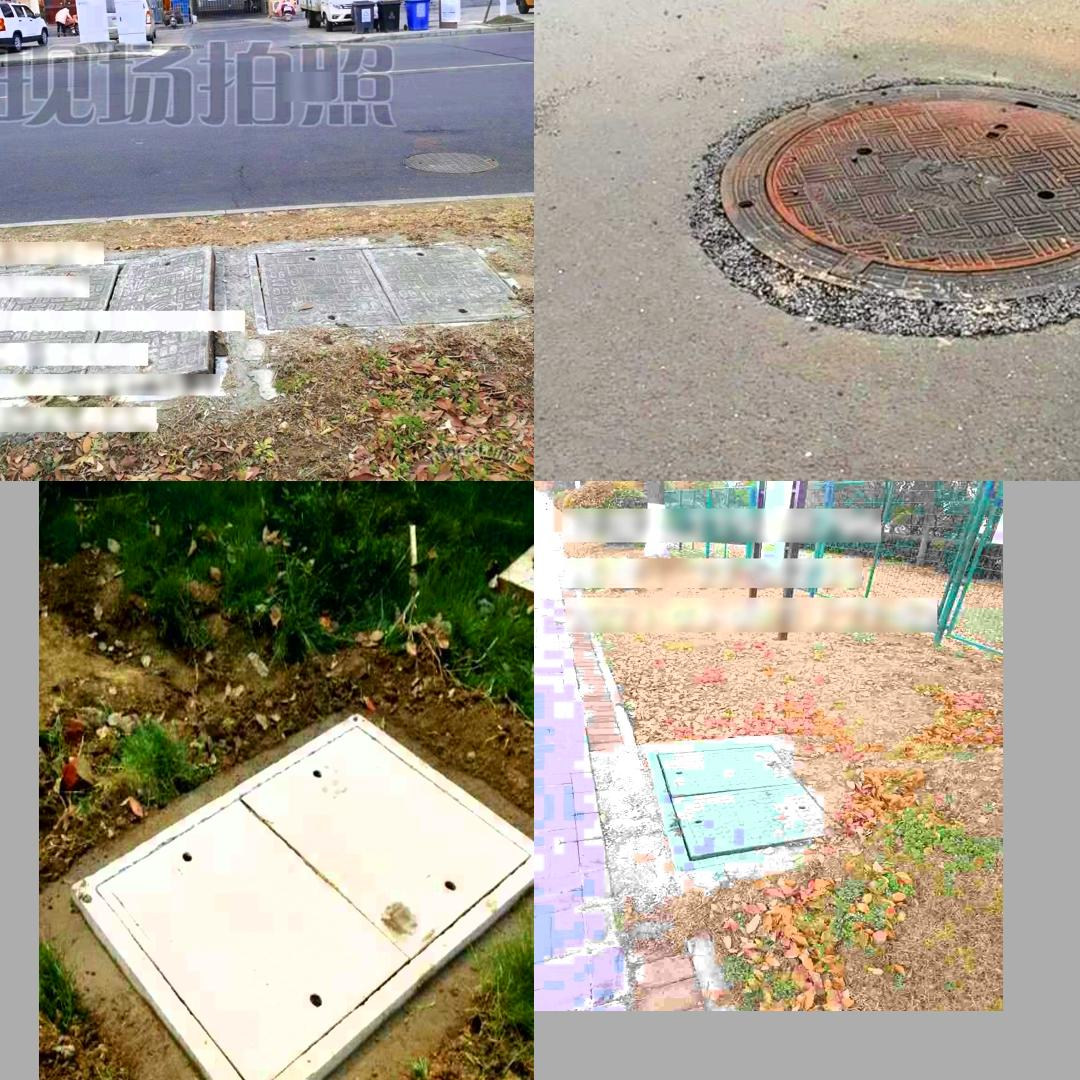good: (68, 713, 534, 1080), (684, 52, 1080, 357), (247, 236, 532, 342), (645, 742, 851, 862)
uncovered: (0, 248, 223, 415)
